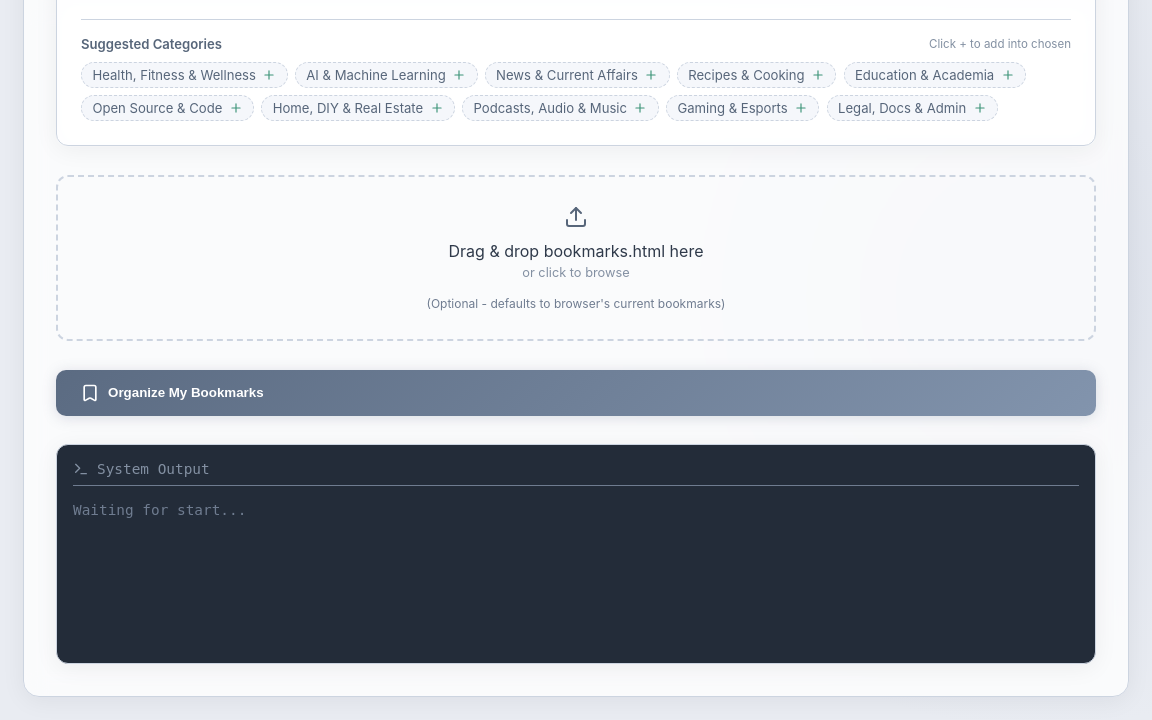
Organizer Component UI Tests › shows rate limit / network retry notification banner when warning is received and clears on completion
(page scrolled)
Click the button "Organize My Bookmarks": (186, 393) top-left (56, 370), bottom-right (1096, 416)
(page scrolled)
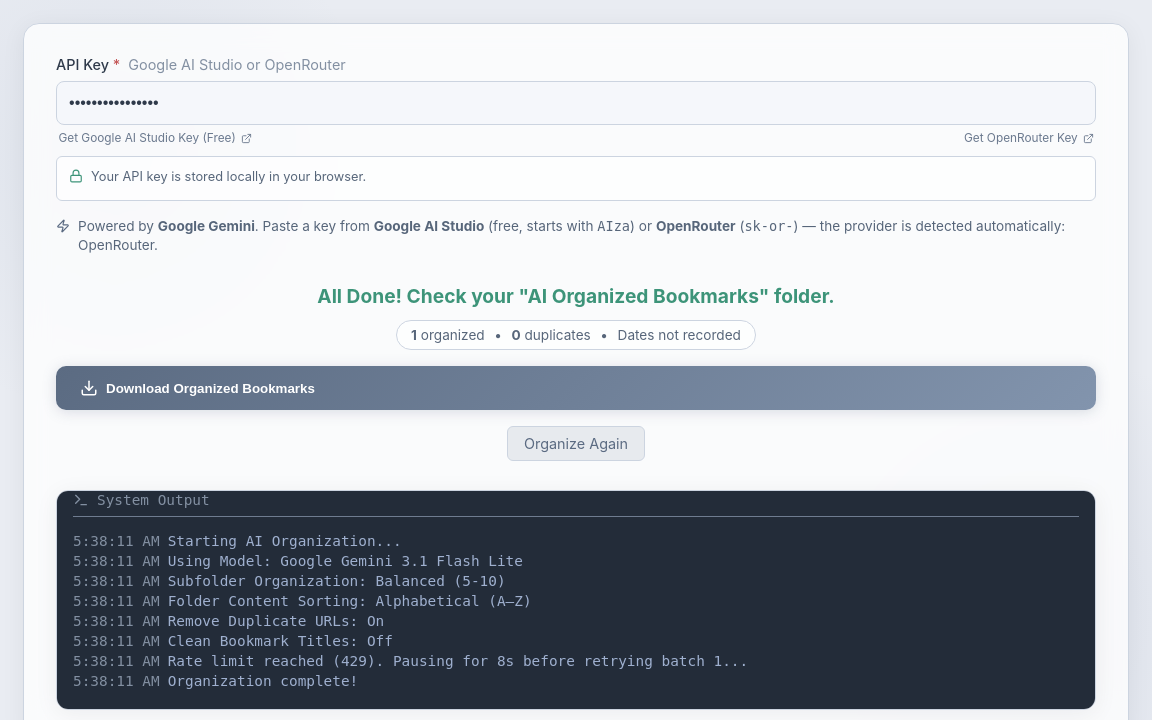
Now the text "Organization complete!" is shown, box top-left (168, 673), bottom-right (358, 689)
